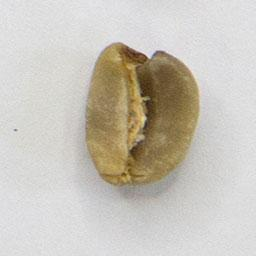longberry: (82, 39, 203, 187)
